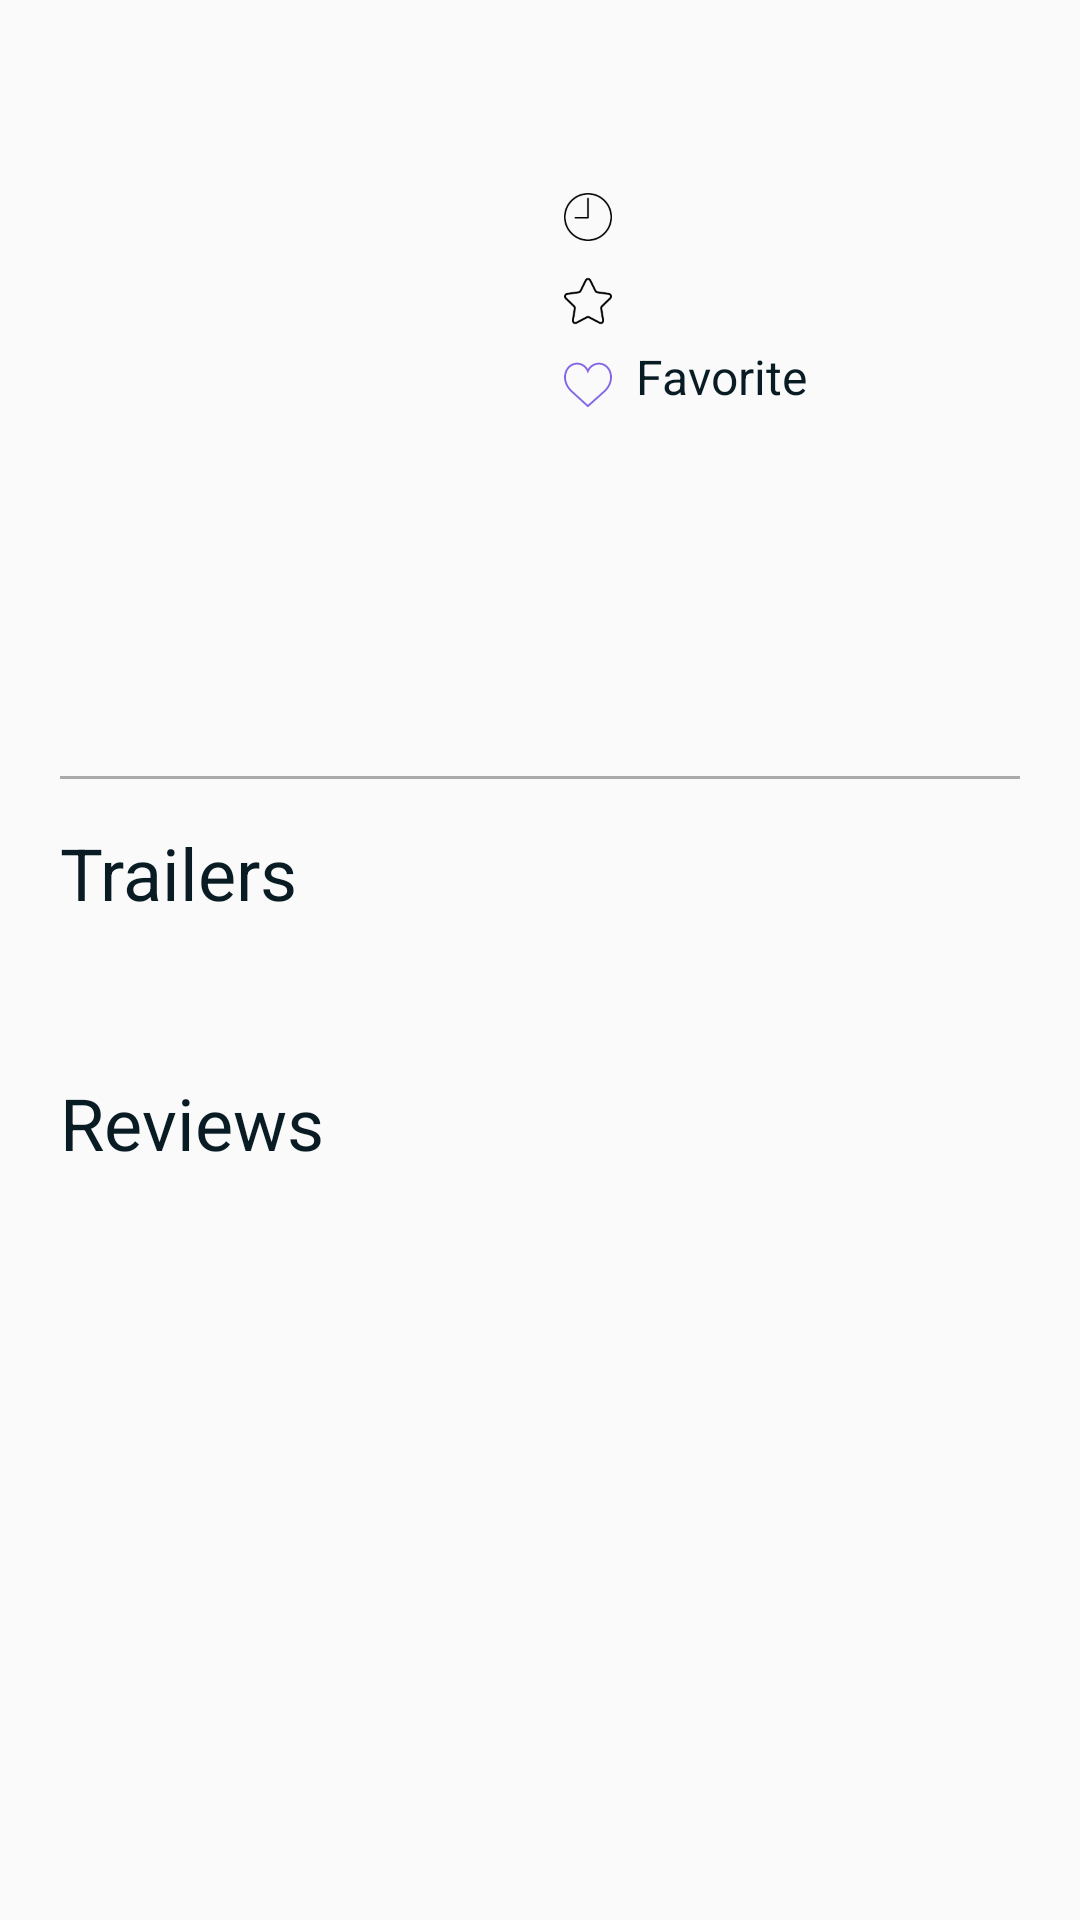

Point at icon controls on the screen. Image size 1080px×1920px, points as point (x, y).
length: point (588, 217)
rate: point (588, 301)
